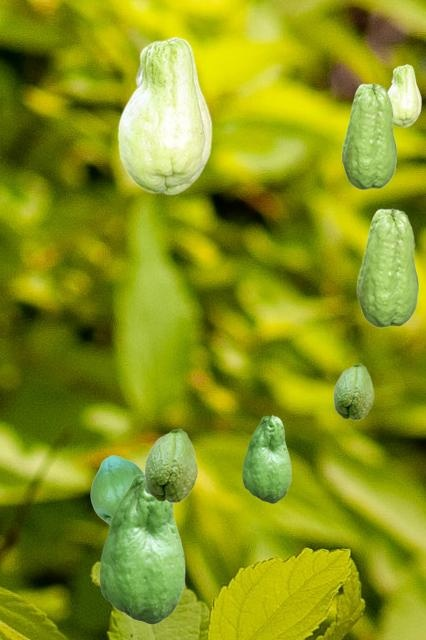sayote: (117, 36, 211, 194), (99, 473, 184, 623), (356, 208, 418, 327), (341, 83, 396, 189), (242, 415, 290, 502), (144, 428, 197, 502), (90, 455, 143, 524), (333, 363, 373, 419), (388, 64, 420, 126)
